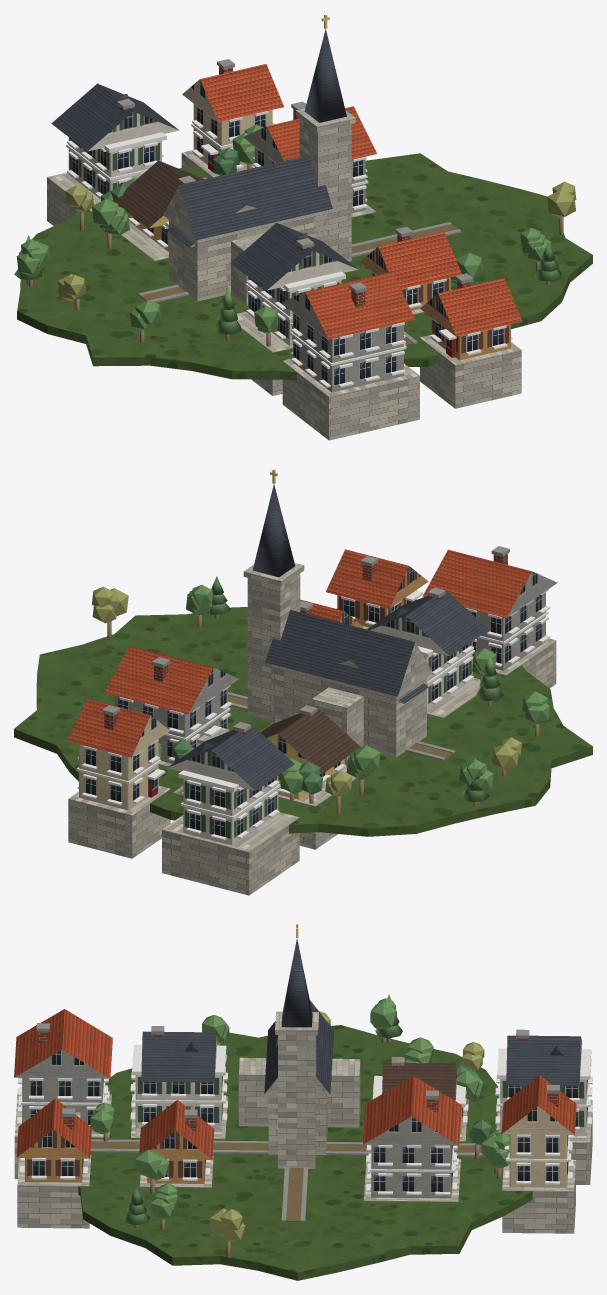
Rendered from city_west_town.gltf.
3 renders of one model, top to bottom at view 1: azimuth 30°, elevation 25°; view 2: azimuth 150°, elevation 25°; view 3: azimuth 270°, elevation 25°, orthographic. The views are drawn at different scales.
Parts seen in each view (by area): view 1: city_west_town; view 2: city_west_town; view 3: city_west_town.
Boxes of the visible parts, x1,y1,x2,y2 form: city_west_town: (14,14,592,440); city_west_town: (14,469,592,895); city_west_town: (14,924,592,1280).
Size of the model in its own units: 2.04 by 1.07 by 2.02.
Materials: 20 (14 with a texture image).
